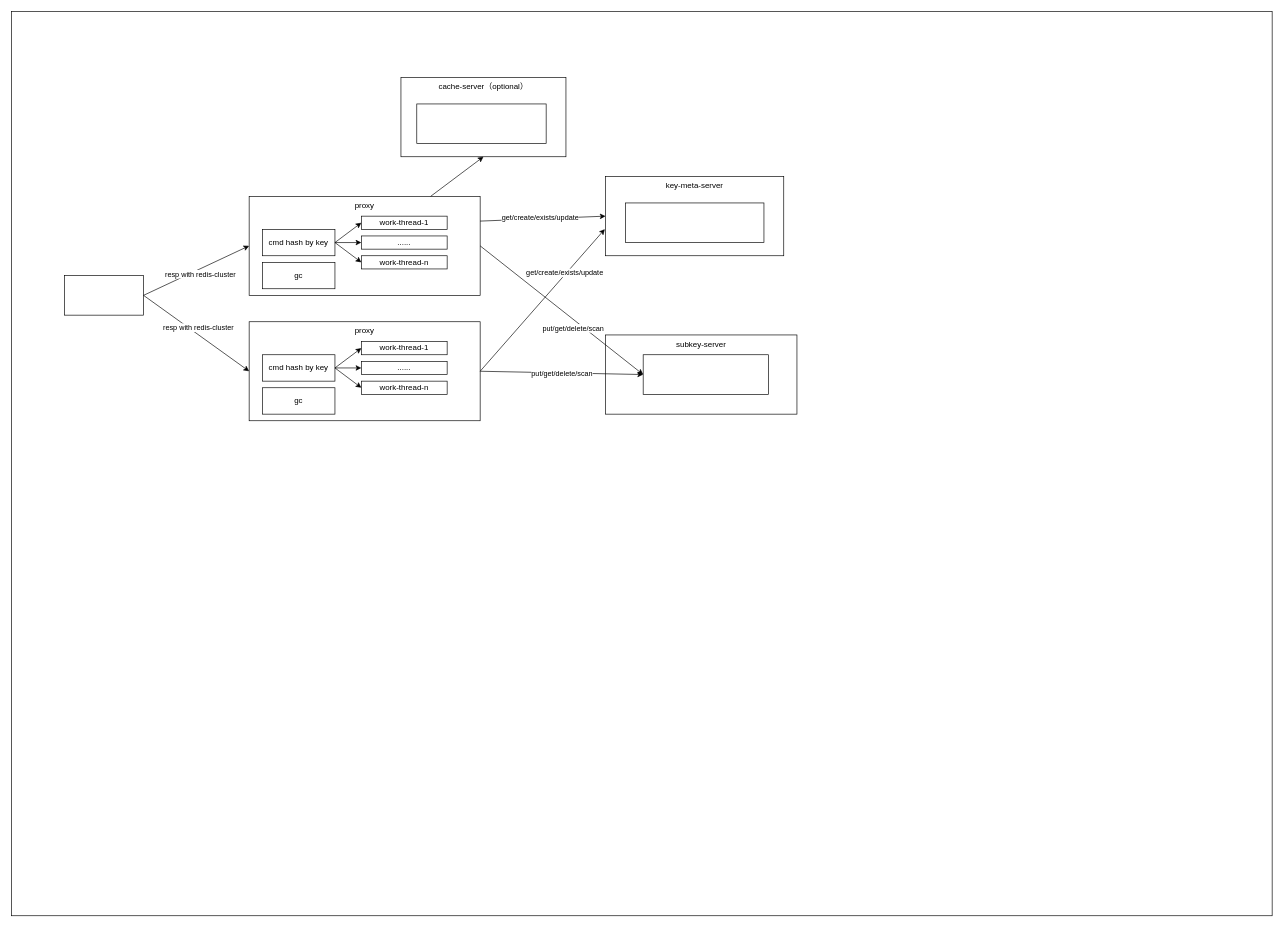
This 1284x927 diagram has some shape labels left out. The shapes that lost their labels are listed below. From the top down, each one's centre as x and y in pixels, then its label:
(481,123): redis with short ttl
(694,222): redis or distribution-kv-storage
(104,295): redis-cluster-client
(706,374): distribution-kv-storage (hbase、oceanbase、tikv)
